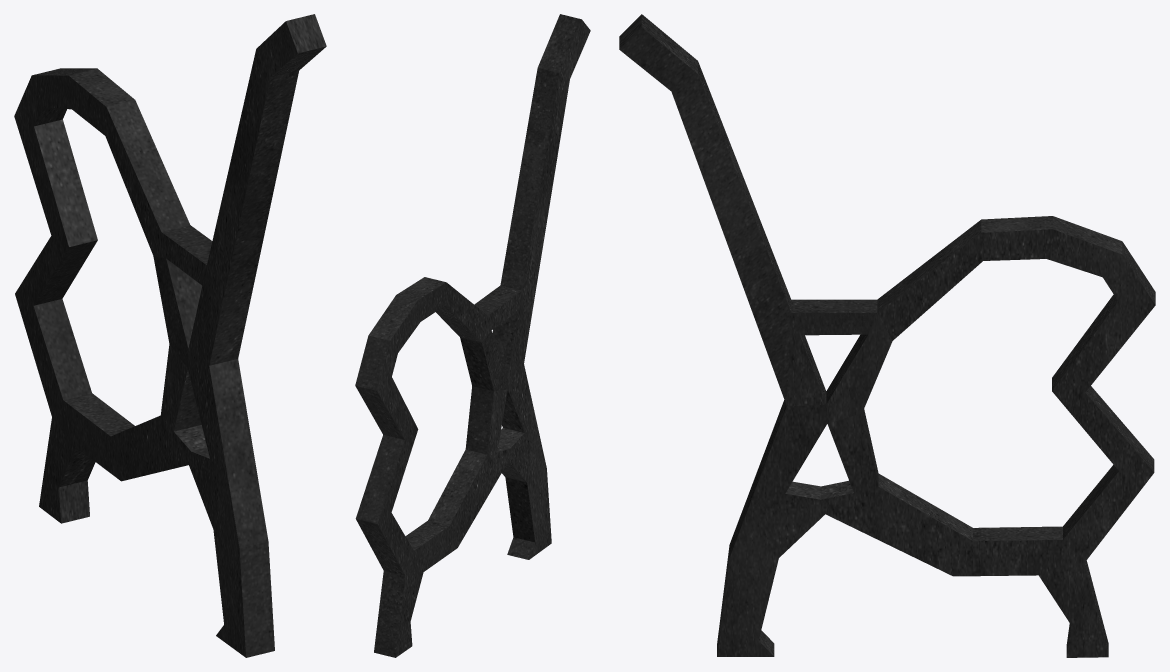
File: klupa_oslonac.fbx
3 views of the same model, side by side, from view 1: azimuth 30°, elevation 25°; view 2: azimuth 150°, elevation 25°; view 3: azimuth 270°, elevation 25° (orthographic). The views are drawn at different scales.
Visible parts, largest first — view 1: Cube.003; view 2: Cube.003; view 3: Cube.003.
Part boxes in pixels (<box>): Cube.003: <box>14,14,326,657</box>; Cube.003: <box>355,14,590,657</box>; Cube.003: <box>619,14,1155,657</box>.
Bounding box in the file's own units: 165 × 9.69 × 214.
Materials: 1 (1 with a texture image).
